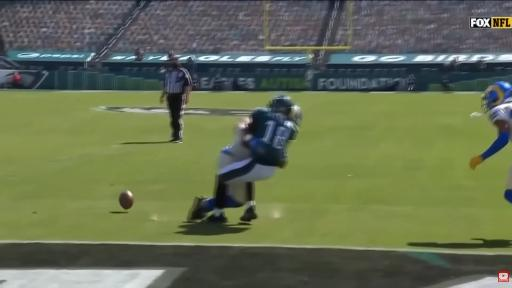Helmet: (481, 82, 511, 112), (267, 94, 294, 116), (290, 105, 303, 126)
Jersey: (250, 108, 298, 166), (222, 123, 250, 161), (489, 102, 511, 127)
Player: (206, 96, 297, 223), (218, 115, 253, 167), (504, 167, 511, 202)
